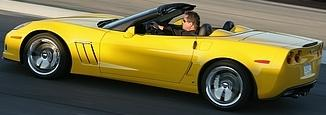back_view: (267, 40, 324, 100)
backlight: (287, 51, 303, 65)
